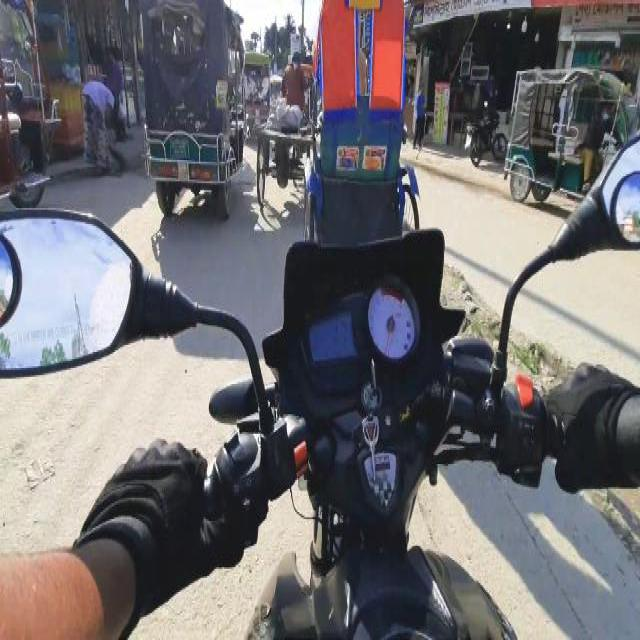auto rickshaw: (142, 0, 248, 217), (501, 63, 591, 204), (2, 2, 60, 204)
motorbike: (7, 207, 637, 639), (464, 101, 506, 166)
rickshaw: (304, 2, 422, 240)
